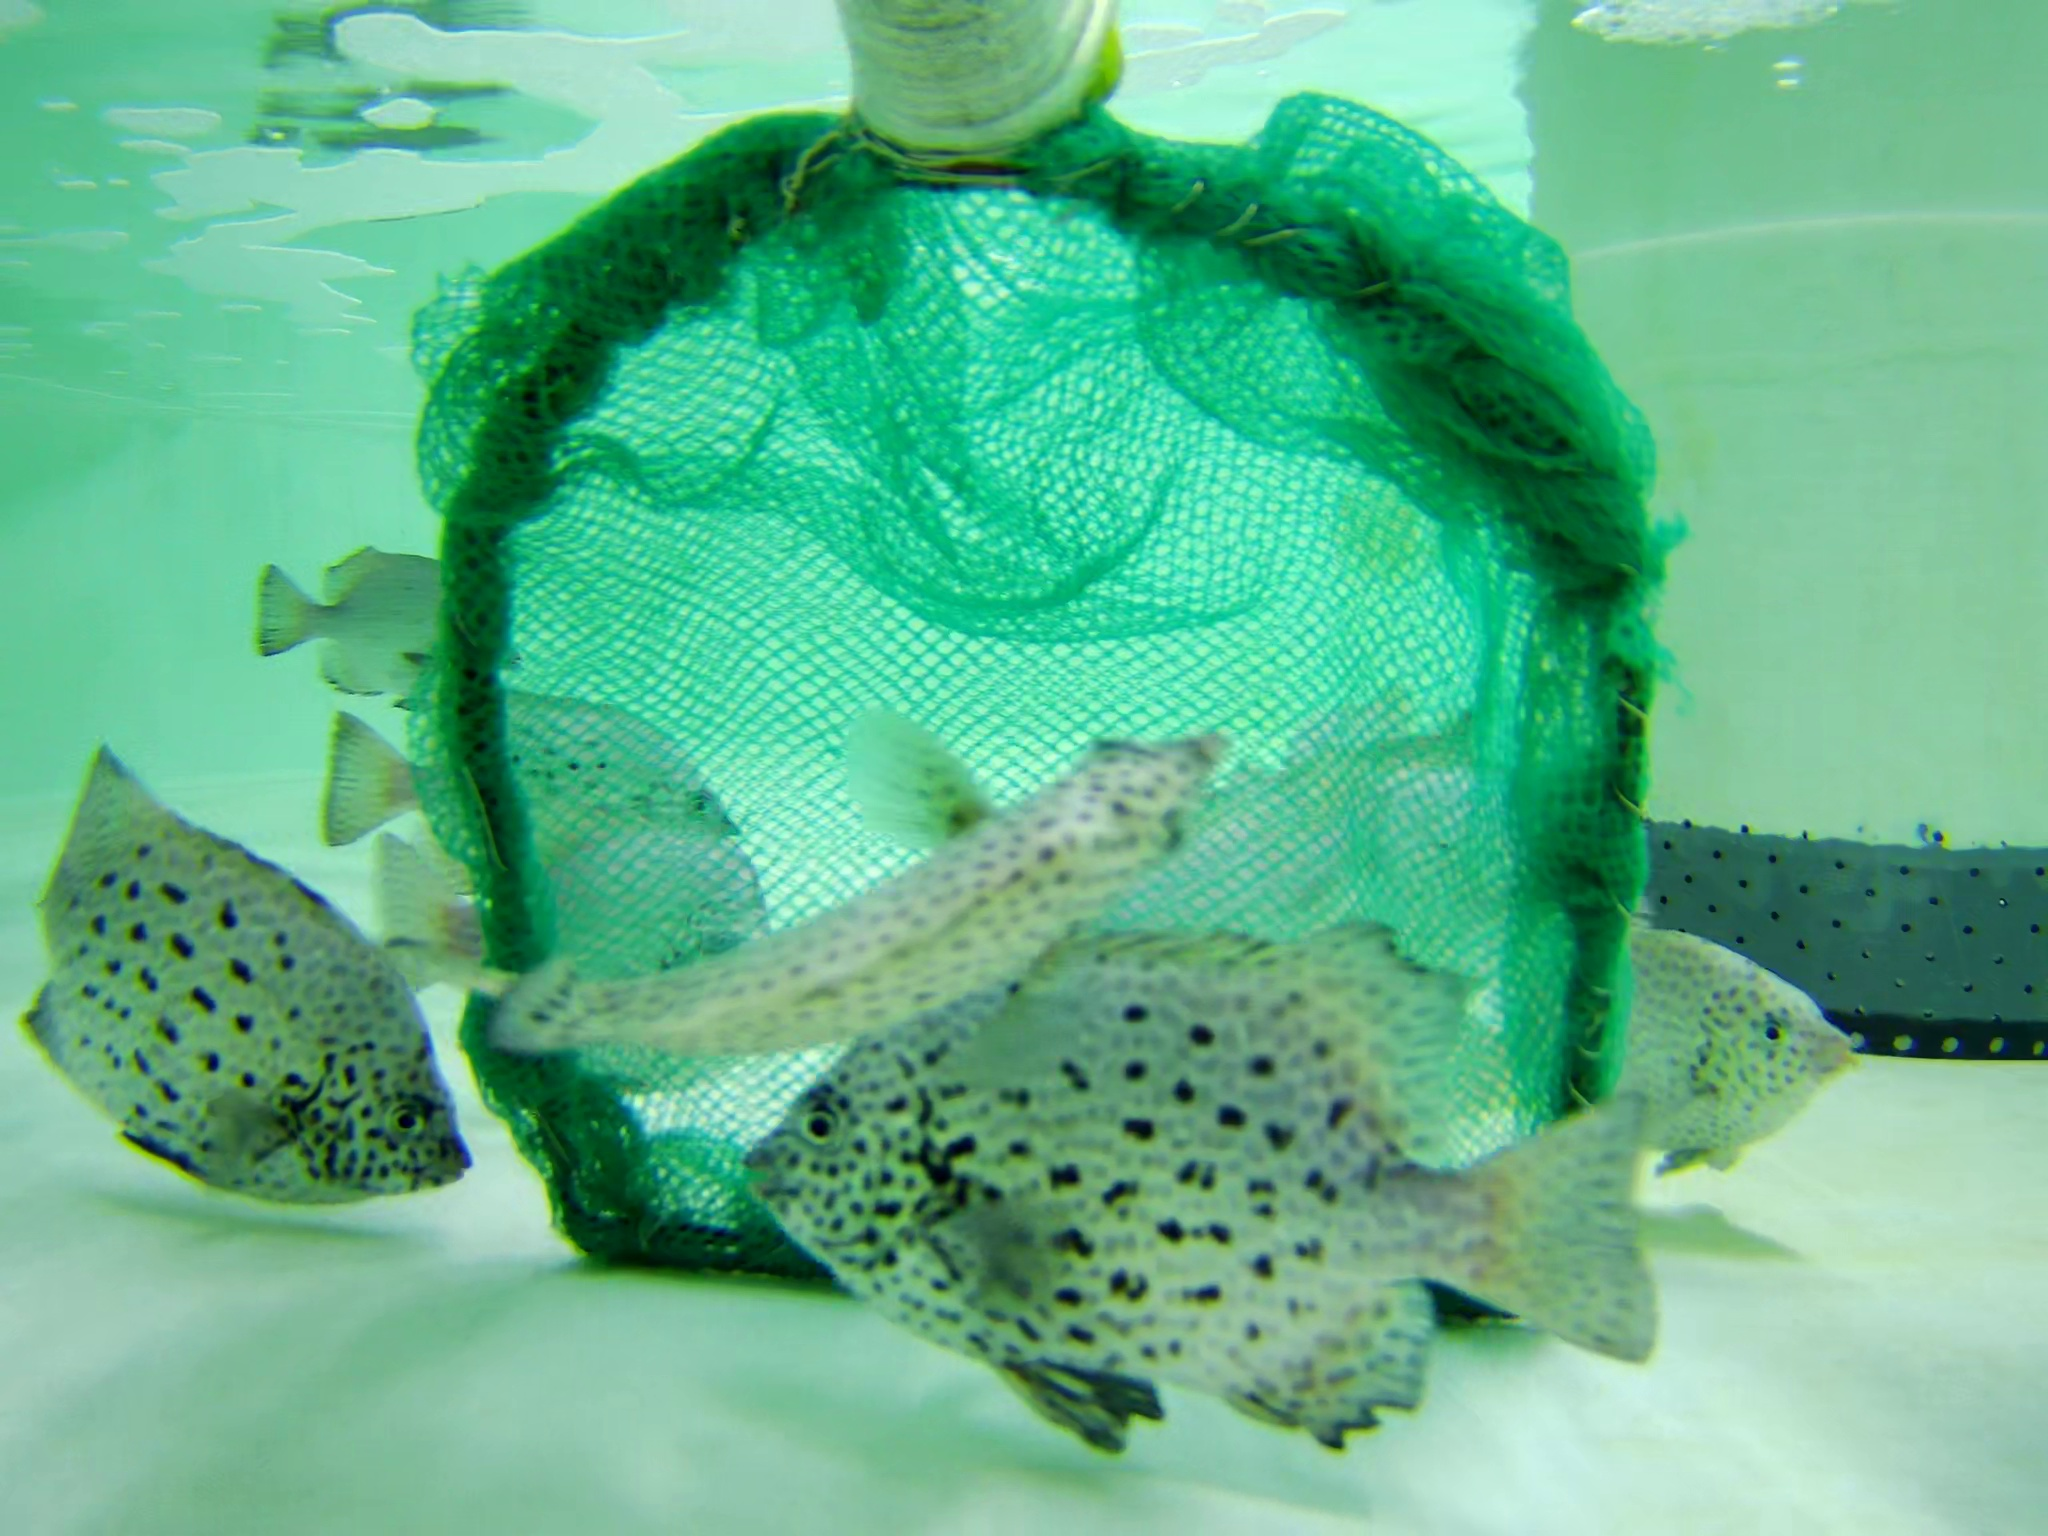fish: (761, 918, 1658, 1439), (463, 715, 1218, 1102), (34, 741, 476, 1218), (1567, 908, 1848, 1181), (358, 834, 763, 1018), (332, 695, 750, 870), (258, 542, 518, 692)
